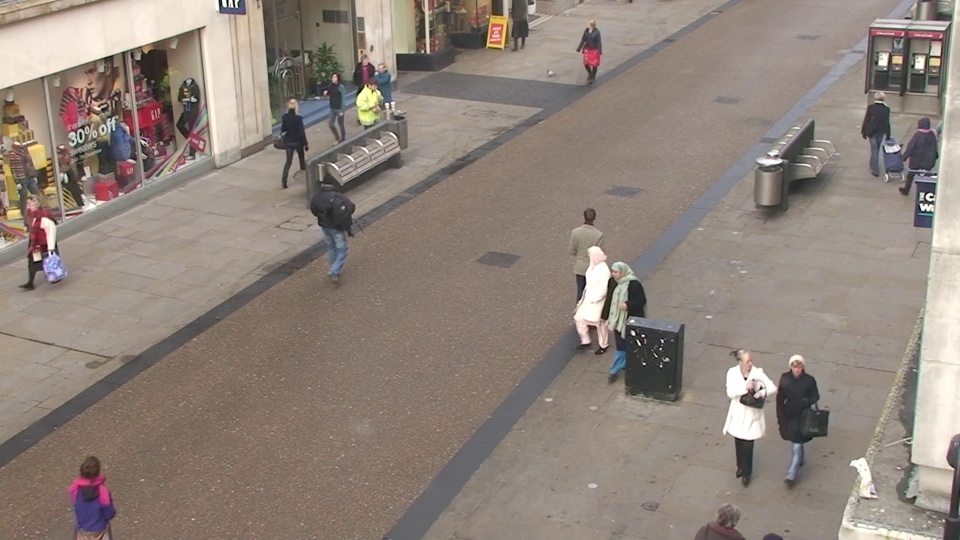pedestrian: (765, 344, 822, 501), (714, 340, 769, 495), (61, 441, 137, 540), (14, 190, 70, 303), (598, 255, 641, 388), (574, 239, 616, 368), (572, 203, 610, 323), (896, 112, 941, 211), (310, 170, 350, 280), (857, 89, 897, 180), (693, 484, 758, 540), (279, 95, 312, 183), (358, 73, 389, 157), (325, 68, 355, 149), (370, 59, 399, 138), (353, 51, 381, 128), (580, 17, 603, 85)
